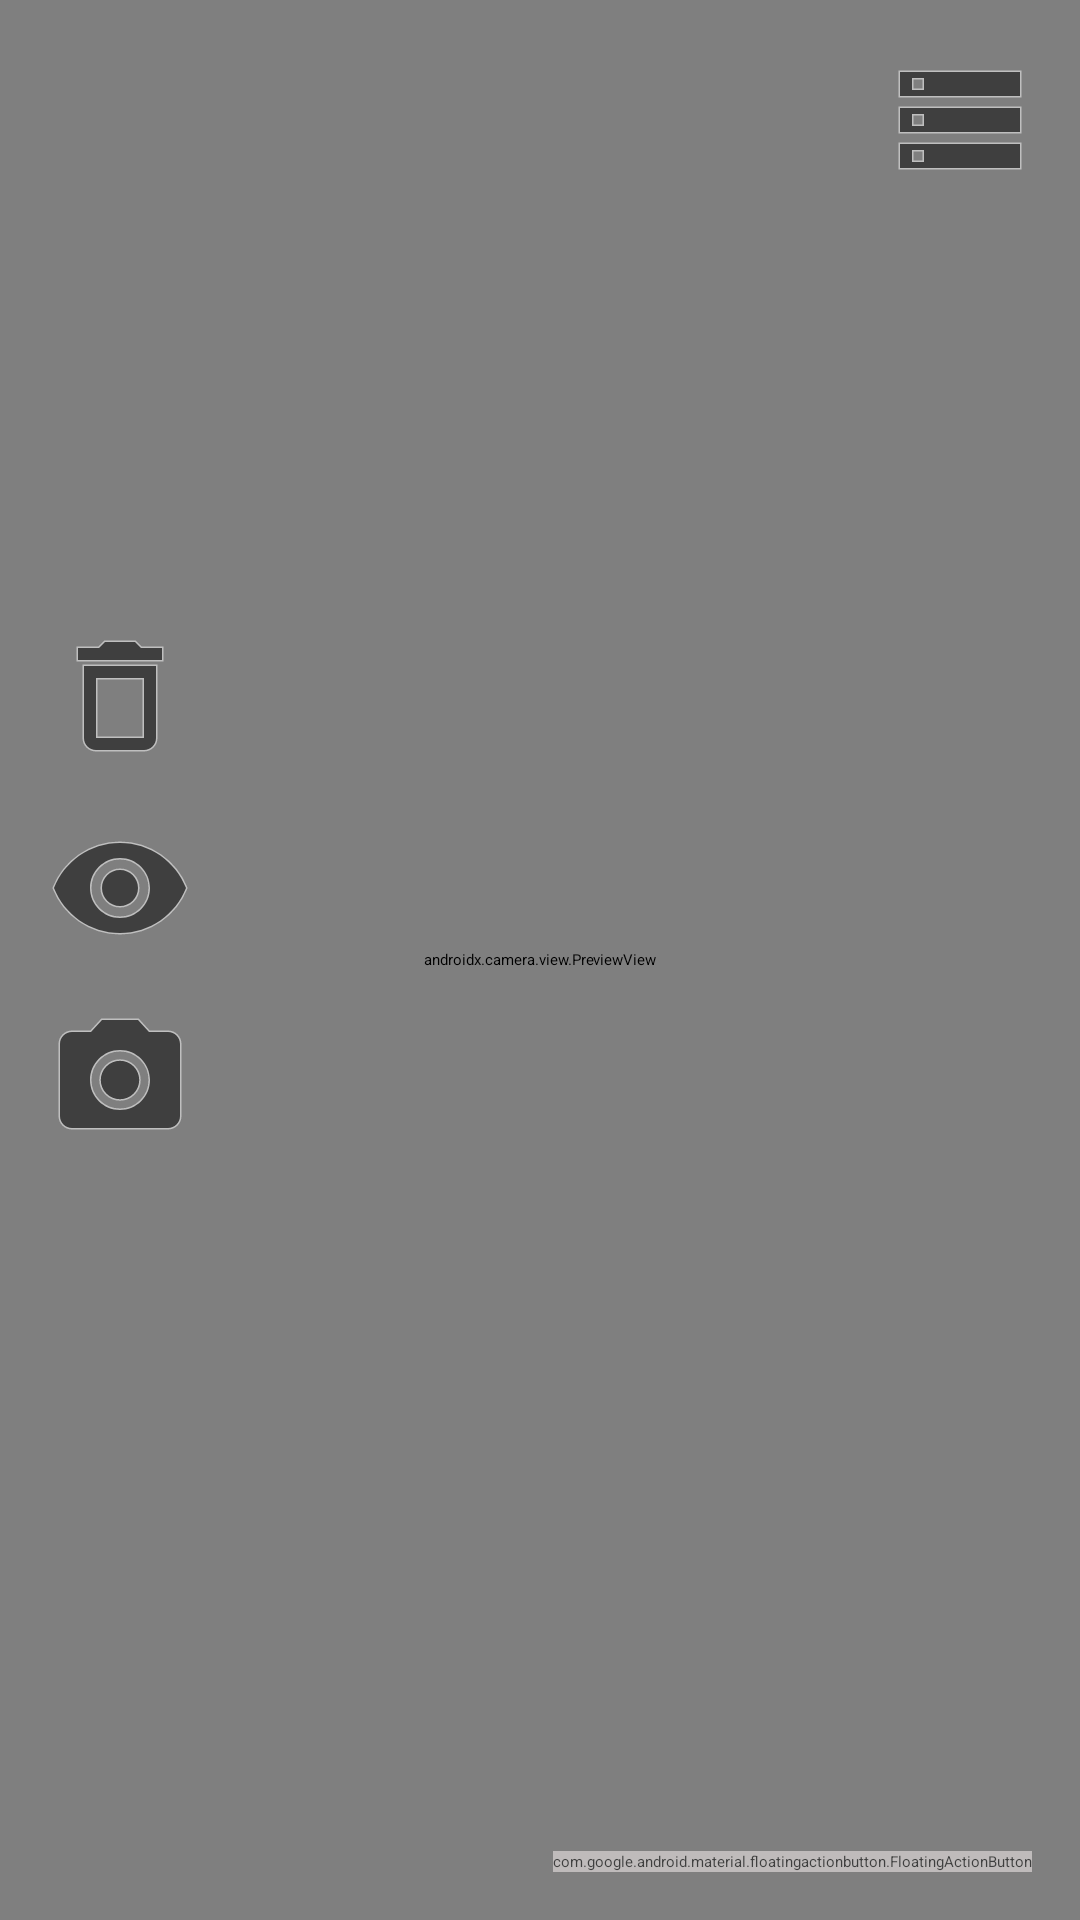

Icon bounding boxes for this 1080w x 1920h phone screenshot, format (x1,y1,x2,y2):
delete: (76,640,164,752)
storage: (898,70,1022,170)
visibility: (53,841,187,935)
